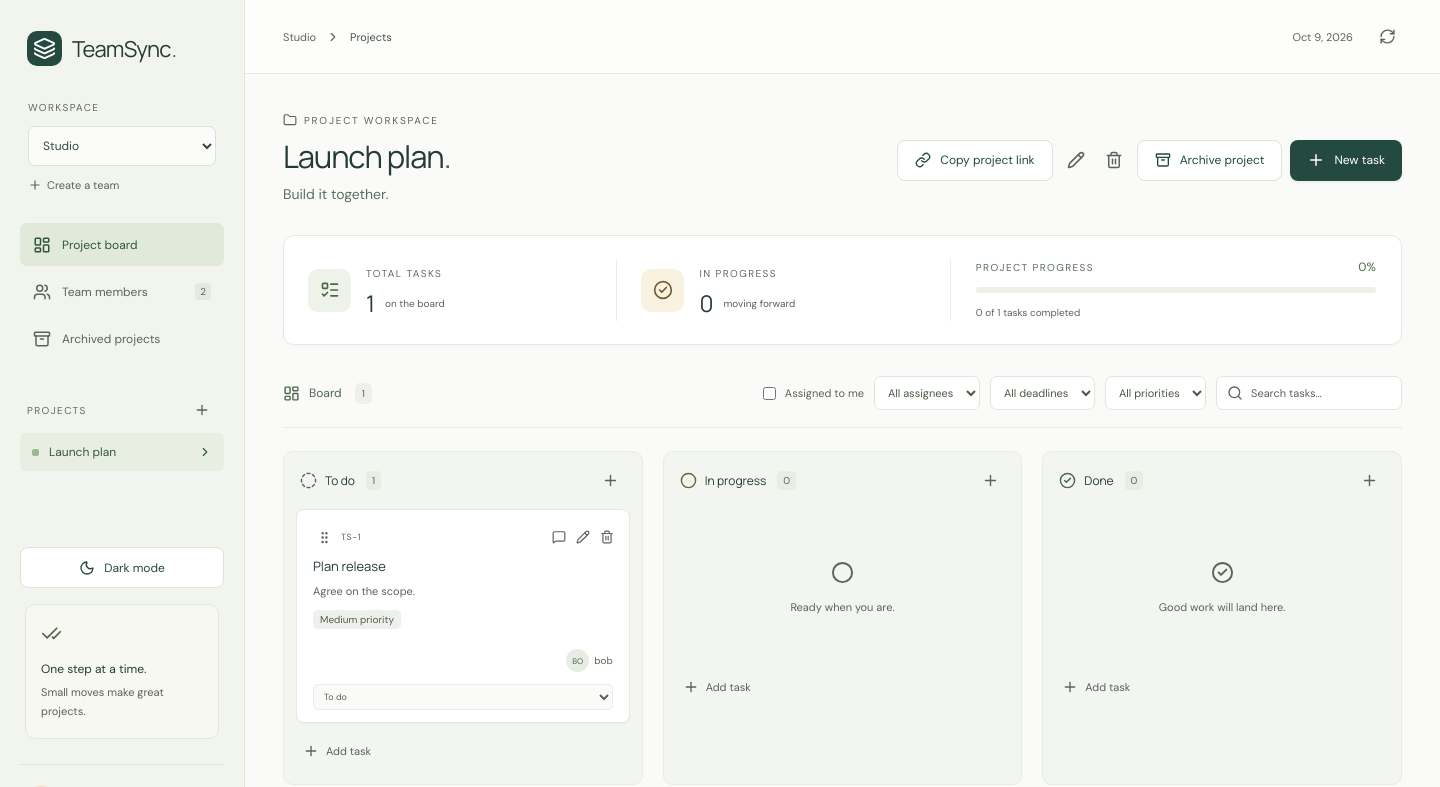
it: moves a task and updates the progress summary
The image size is (1440, 787).
Expected: the heading "Launch plan." is shown, x1=283 y1=136 x2=450 y2=176
Select "Done" in the dropdown named "Status of Plan release": (463, 697) x1=313 y1=684 x2=613 y2=710
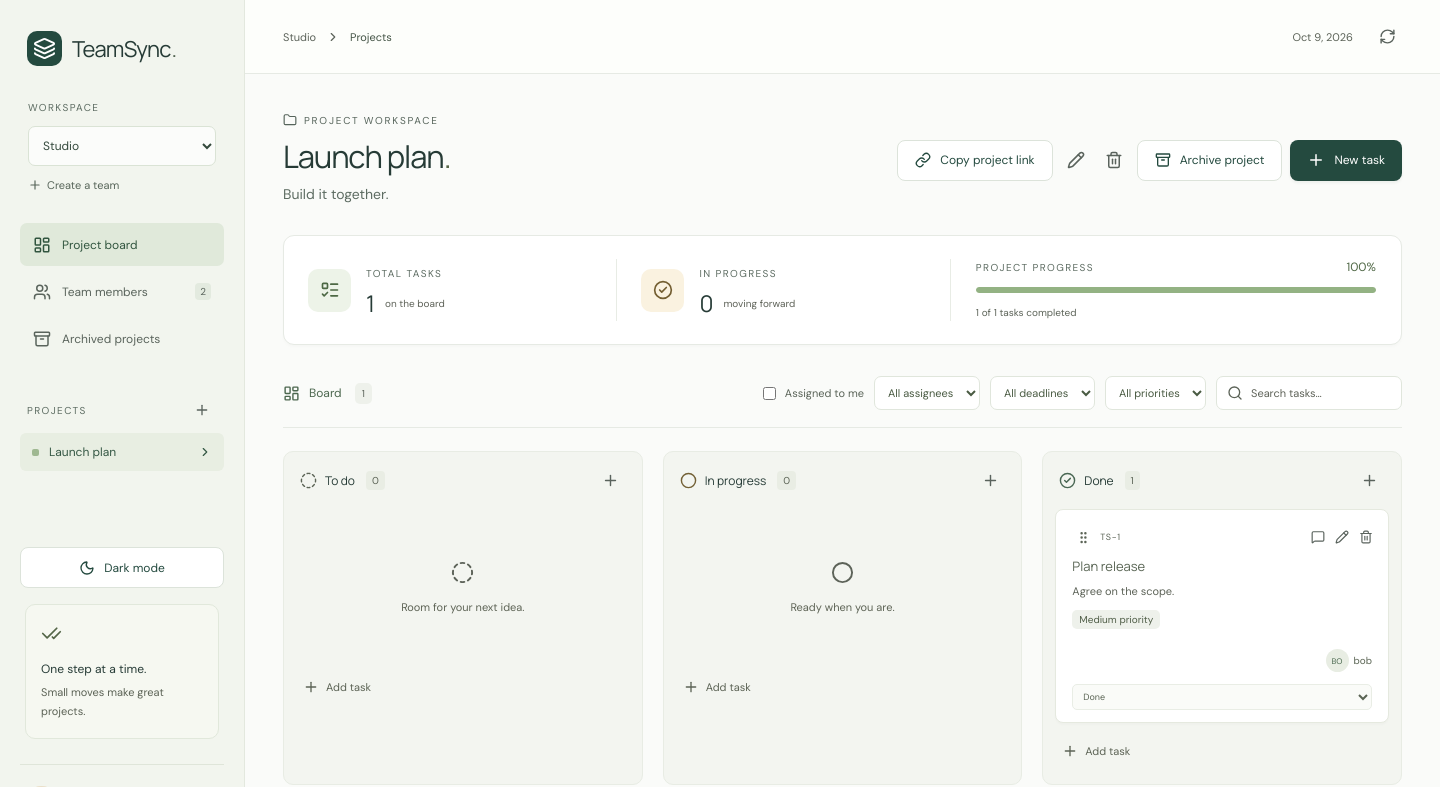
Now the dropdown named "Status of Plan release" shows "Done", box x1=1072 y1=684 x2=1372 y2=710
Now the text "100%" is shown, box x1=1346 y1=259 x2=1376 y2=275
